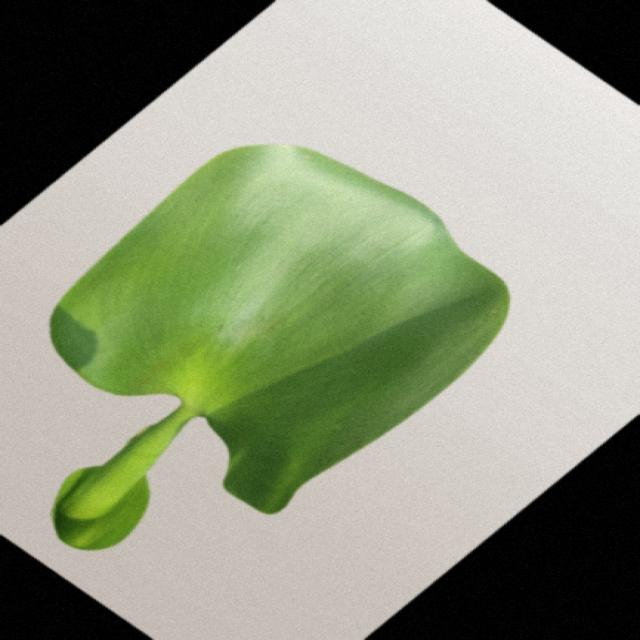daun sehat: (53, 146, 508, 549)
